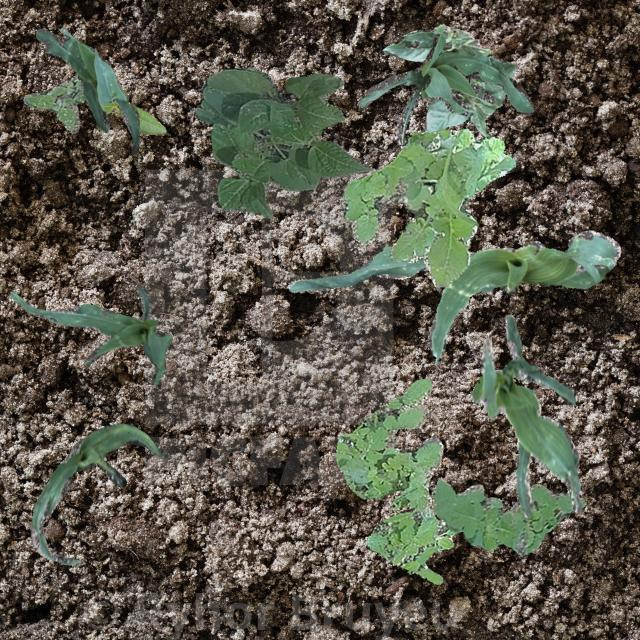crop: (286, 228, 620, 364), (194, 66, 370, 218), (470, 314, 580, 516), (30, 422, 168, 566), (358, 33, 532, 144), (9, 283, 170, 383), (34, 26, 138, 152), (421, 54, 515, 134), (382, 23, 491, 61), (100, 100, 164, 134)
weed: (342, 127, 514, 290), (334, 378, 456, 584), (430, 478, 584, 554), (22, 72, 84, 132)
